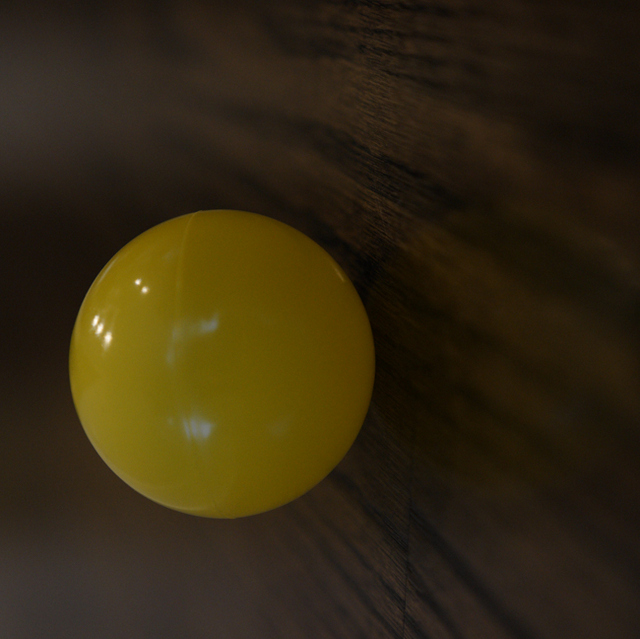Ball: (68, 210, 374, 521)
